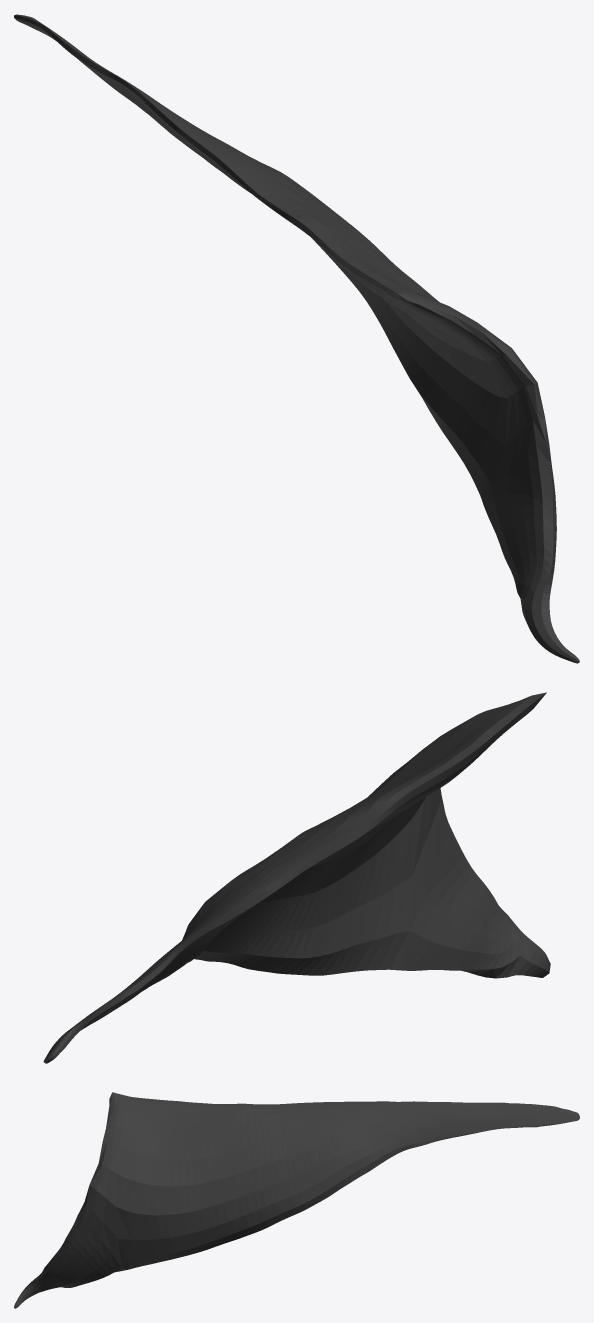
The model's file is Latissimus_dorsi.glb.
3 renders of one model, top to bottom at view 1: azimuth 30°, elevation 25°; view 2: azimuth 150°, elevation 25°; view 3: azimuth 270°, elevation 25°, orthographic. The views are drawn at different scales.
Parts seen in each view (by area): view 1: Latissimus_dorsi; view 2: Latissimus_dorsi; view 3: Latissimus_dorsi.
Part boxes in pixels (box(x1,y1,x2,y2)): Latissimus_dorsi: box(14, 14, 579, 663); Latissimus_dorsi: box(43, 692, 550, 1063); Latissimus_dorsi: box(14, 1092, 579, 1308).
Bounding box in the file's own units: 0.4734 × 1.04 × 2.81.
1 material, 1 textured.
